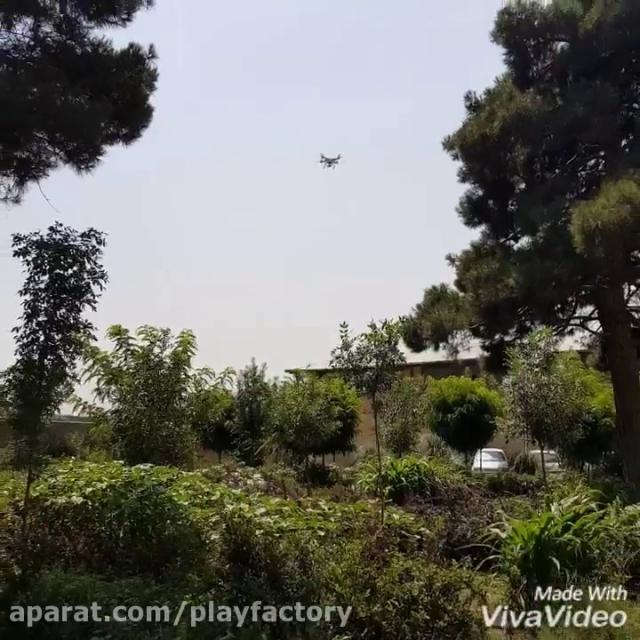drone: (314, 144, 348, 172)
